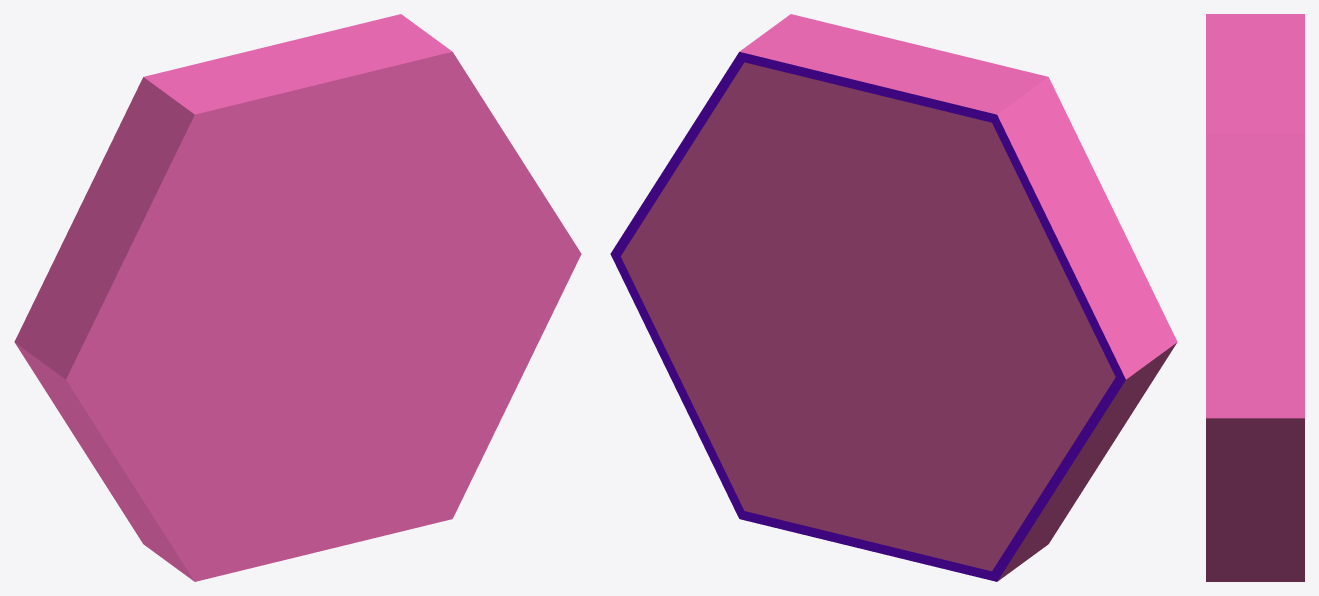
Rendered from Hexagon3D_V1.fbx.
3 views of the same model, side by side, from view 1: azimuth 30°, elevation 25°; view 2: azimuth 150°, elevation 25°; view 3: azimuth 270°, elevation 25° (orthographic). The views are drawn at different scales.
Parts seen in each view (by area): view 1: Split_Line1; view 2: Split_Line1; view 3: Split_Line1.
Part boxes in pixels (left/top/right/bottom): Split_Line1: left=14, top=14, right=581, bottom=581; Split_Line1: left=610, top=14, right=1177, bottom=581; Split_Line1: left=1206, top=14, right=1304, bottom=581.
Size of the model in its own units: 577 by 100 by 500.
